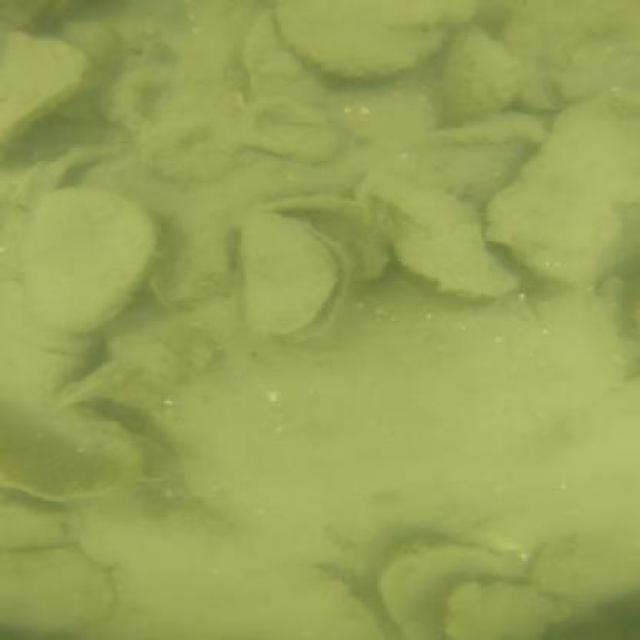Oyster-Indeterminate: (487, 91, 630, 279), (22, 187, 155, 334), (356, 176, 516, 297), (272, 1, 476, 77), (0, 547, 114, 634), (501, 2, 639, 66), (0, 32, 87, 131), (244, 13, 332, 109), (532, 535, 639, 604), (440, 28, 520, 118), (450, 579, 548, 638), (304, 577, 378, 636), (0, 506, 68, 550)
Oyster-Open: (236, 218, 347, 340), (55, 388, 174, 478)
